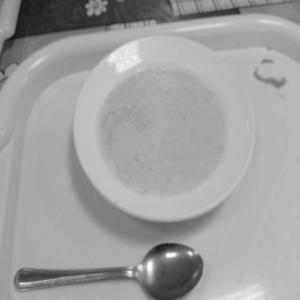porridge: (79, 52, 245, 214)
